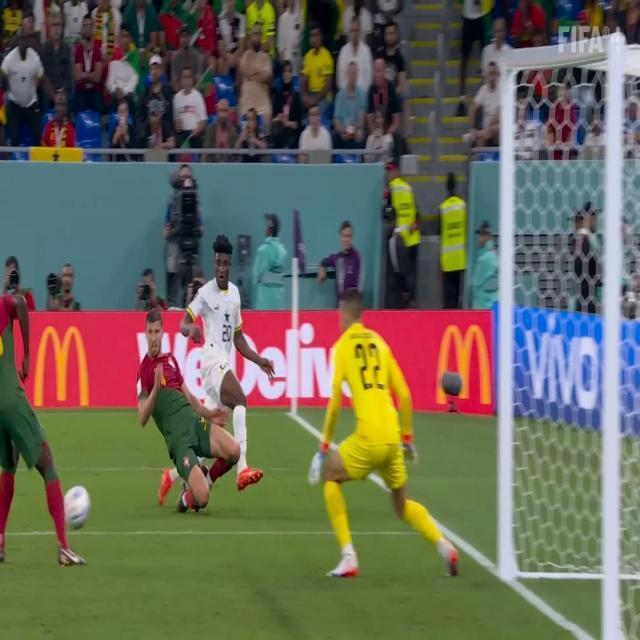football: (61, 488, 117, 535)
